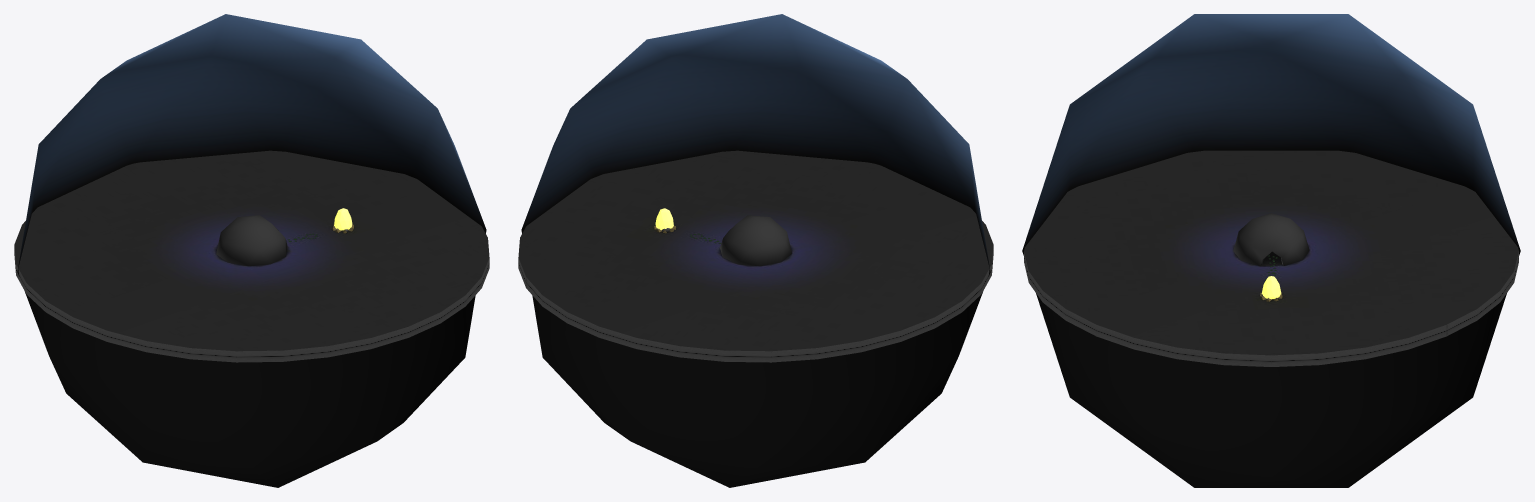
3 views of the same model, side by side, from view 1: azimuth 30°, elevation 25°; view 2: azimuth 150°, elevation 25°; view 3: azimuth 270°, elevation 25° (orthographic). The views are drawn at different scales.
Parts seen in each view (by area): view 1: envirosphere.010, ground.012, lodge.010; view 2: envirosphere.010, ground.012, lodge.010; view 3: envirosphere.010, ground.012, lodge.010.
Part boxes in pixels (box(x1,y1,x2,y2)): envirosphere.010: box(17, 14, 486, 487); ground.012: box(14, 150, 489, 362); lodge.010: box(216, 215, 287, 266); envirosphere.010: box(521, 14, 990, 487); ground.012: box(518, 150, 993, 362); lodge.010: box(720, 215, 791, 266); envirosphere.010: box(1022, 14, 1520, 487); ground.012: box(1024, 150, 1518, 366); lodge.010: box(1233, 213, 1309, 266).
Size of the model in its own units: 13.58 by 13.69 by 13.69.
8 materials, 2 textured.
